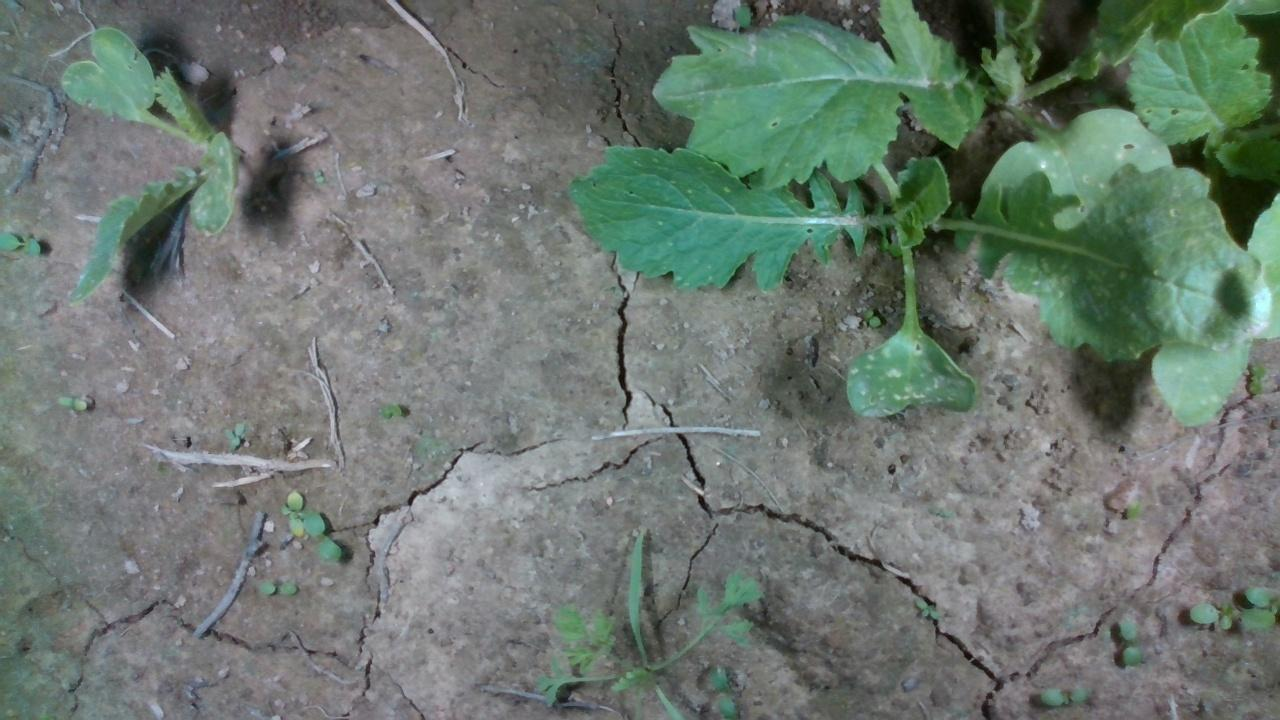weed: (1036, 681, 1086, 707), (1117, 615, 1141, 668), (256, 581, 297, 597), (52, 394, 87, 412), (222, 420, 245, 445), (378, 402, 403, 419), (862, 306, 880, 329), (313, 167, 323, 184)
